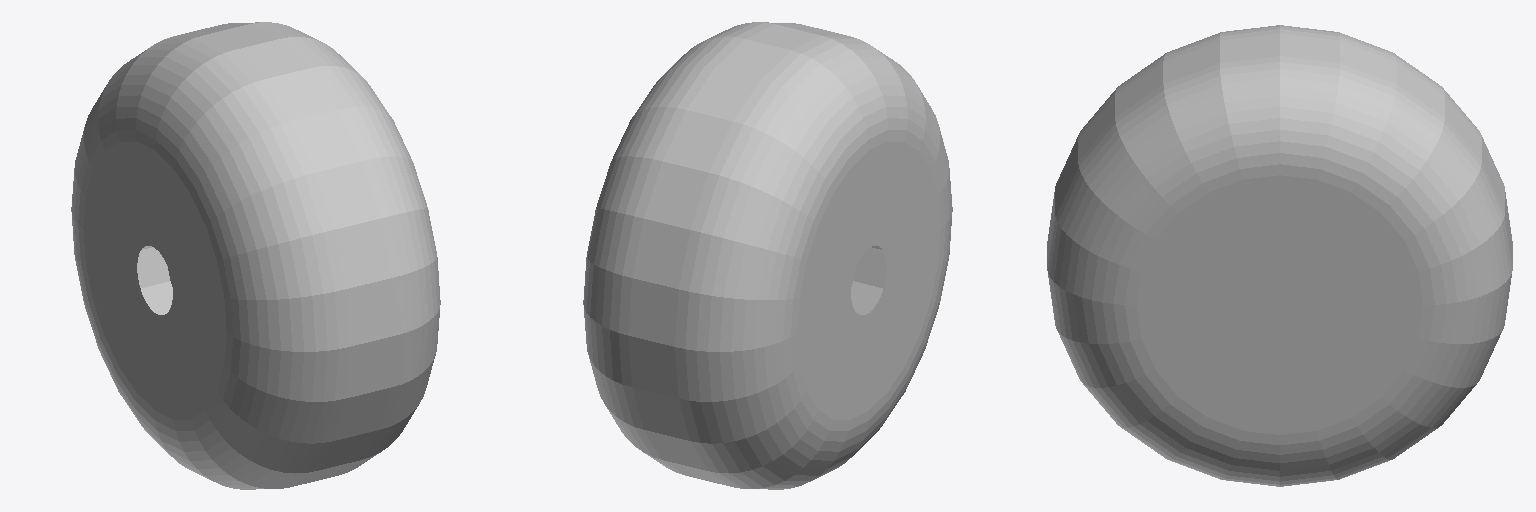
Rendered from original-120.obj.
3 renders of one model, left to right at view 1: azimuth 30°, elevation 25°; view 2: azimuth 150°, elevation 25°; view 3: azimuth 270°, elevation 25°, orthographic.
Parts seen in each view (by area): view 1: #ID766; view 2: #ID766; view 3: #ID766.
Boxes of the visible parts, <box> form: #ID766: <box>71,22,440,489</box>; #ID766: <box>583,22,952,489</box>; #ID766: <box>1047,25,1512,486</box>.
Bounding box in the file's own units: 0.0196 × 0.0391 × 0.0391.